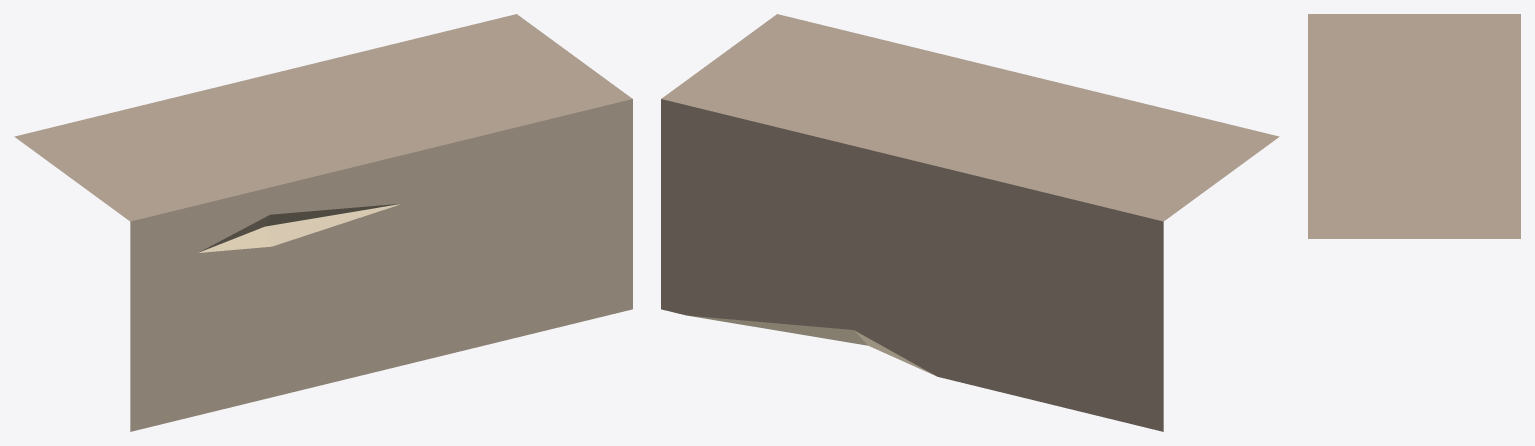
Rendered from Cave_Prop_Support_Ceiling_Beam_2.glb.
The picture shows the model from 3 angles, left to right: view 1: azimuth 30°, elevation 25°; view 2: azimuth 150°, elevation 25°; view 3: azimuth 270°, elevation 25°; orthographic projection. The views are drawn at different scales.
Visible parts, largest first — view 1: Cave_Prop_Support_Ceiling_Beam_2; view 2: Cave_Prop_Support_Ceiling_Beam_2; view 3: Cave_Prop_Support_Ceiling_Beam_2.
Part boxes in pixels (<box>): Cave_Prop_Support_Ceiling_Beam_2: <box>14,14,632,431</box>; Cave_Prop_Support_Ceiling_Beam_2: <box>661,14,1279,431</box>; Cave_Prop_Support_Ceiling_Beam_2: <box>1308,14,1520,238</box>.
Bounding box in the file's own units: 1 × 0.4 × 0.4.
